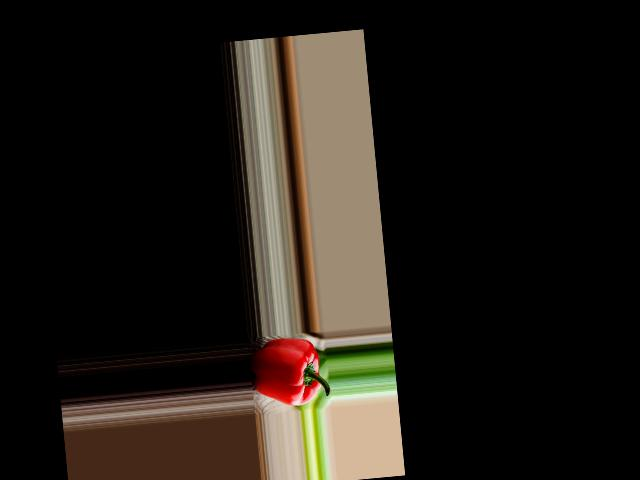bell_pepper: (247, 336, 329, 411)
